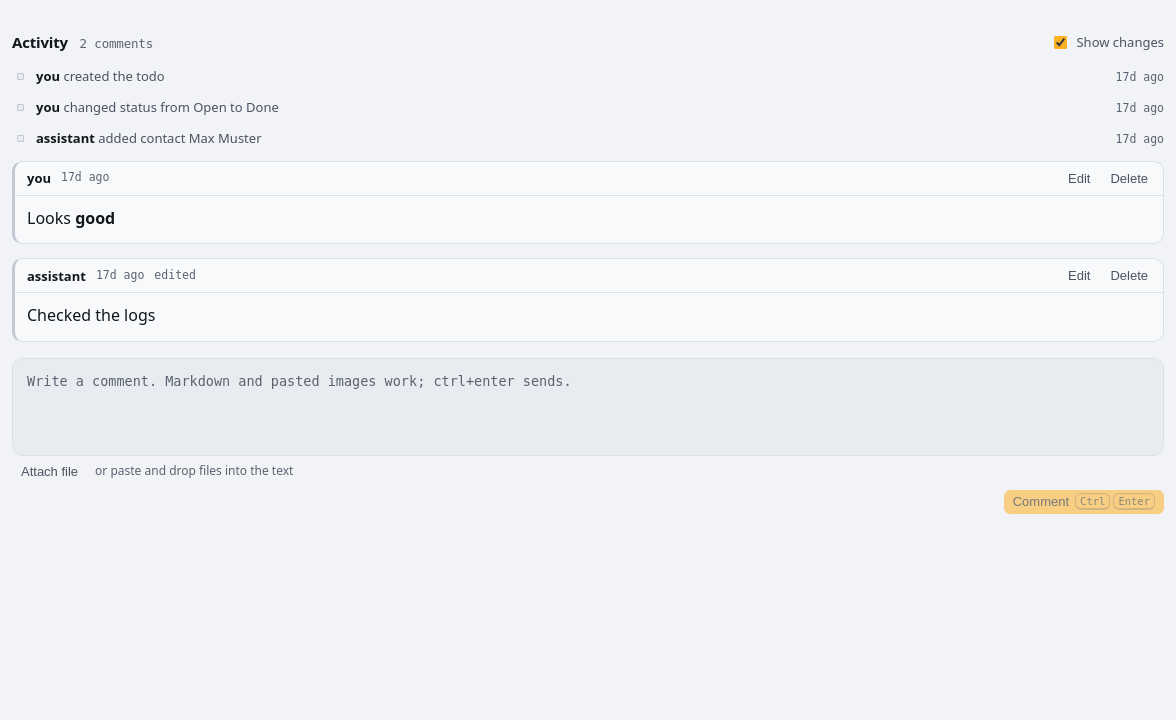
Scenario: Activity thread › sends a comment with ctrl+enter and clears the box
Step 1. Click the field named "New comment" → (299, 381), box [27,373,572,389]
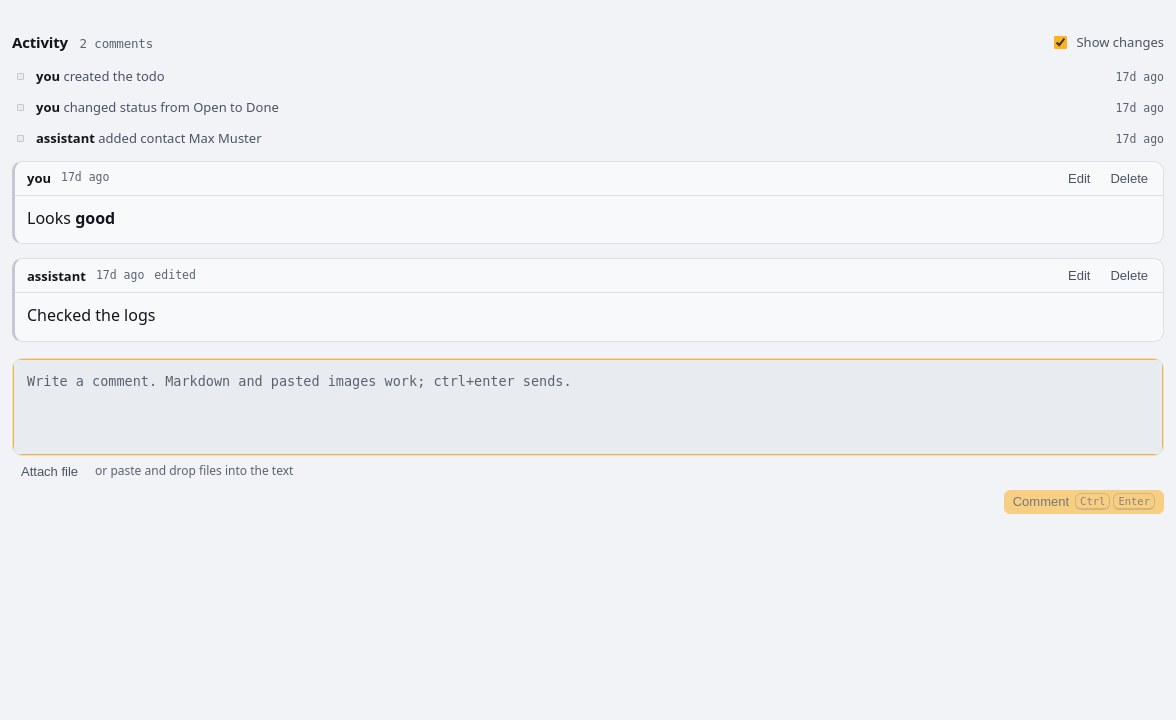
Step 2. Type keys "Ship it"
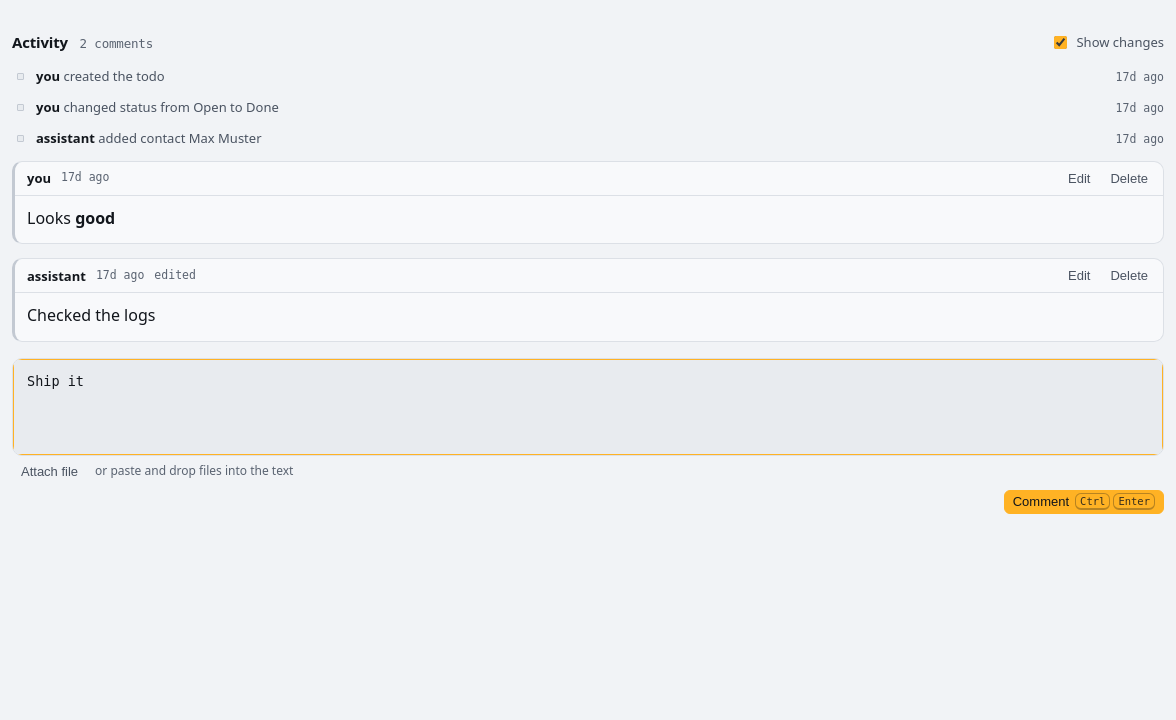
Step 3. Press Enter in the field named "New comment", box [27,373,84,389]
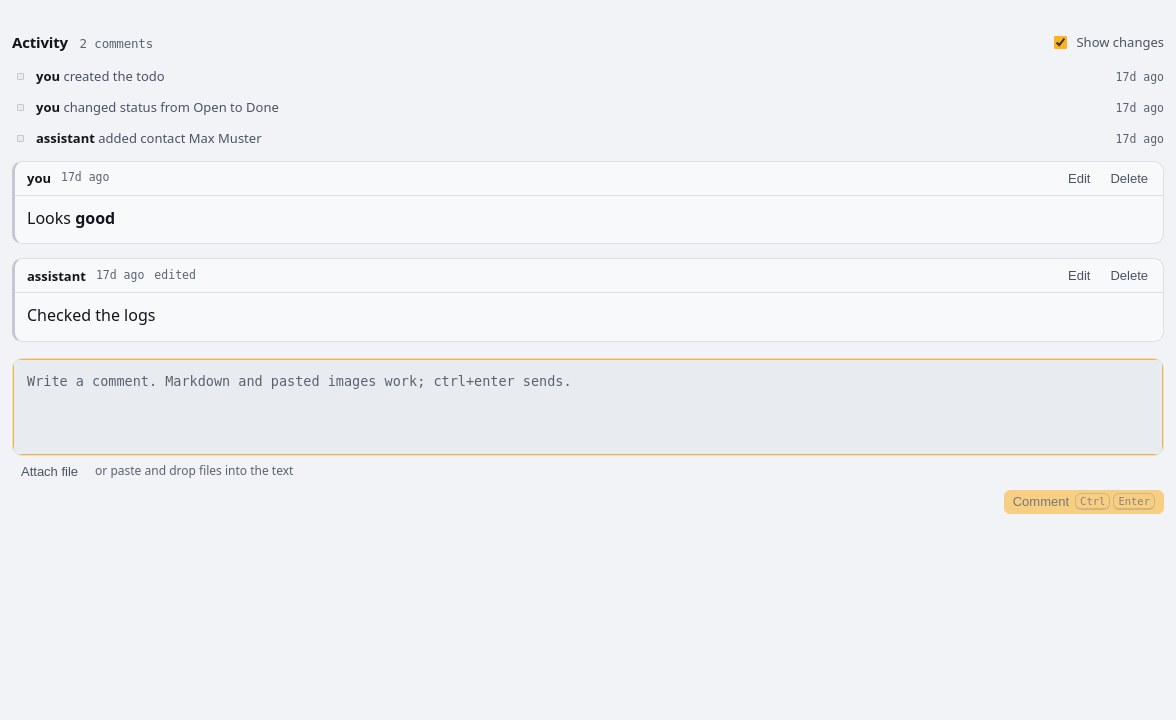
Result: the field labelled "New comment" no longer shows "Ship it"
